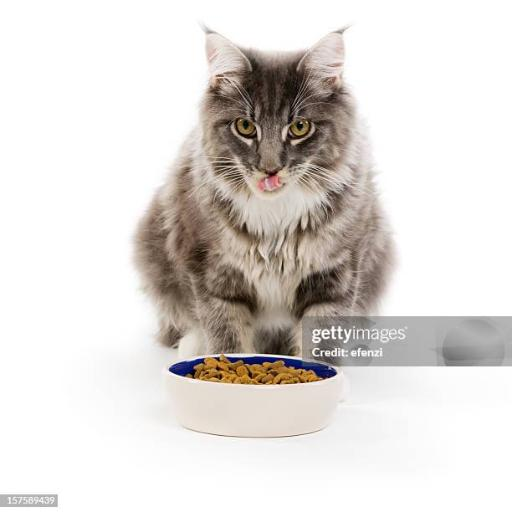cat_eating: (136, 29, 392, 437)
